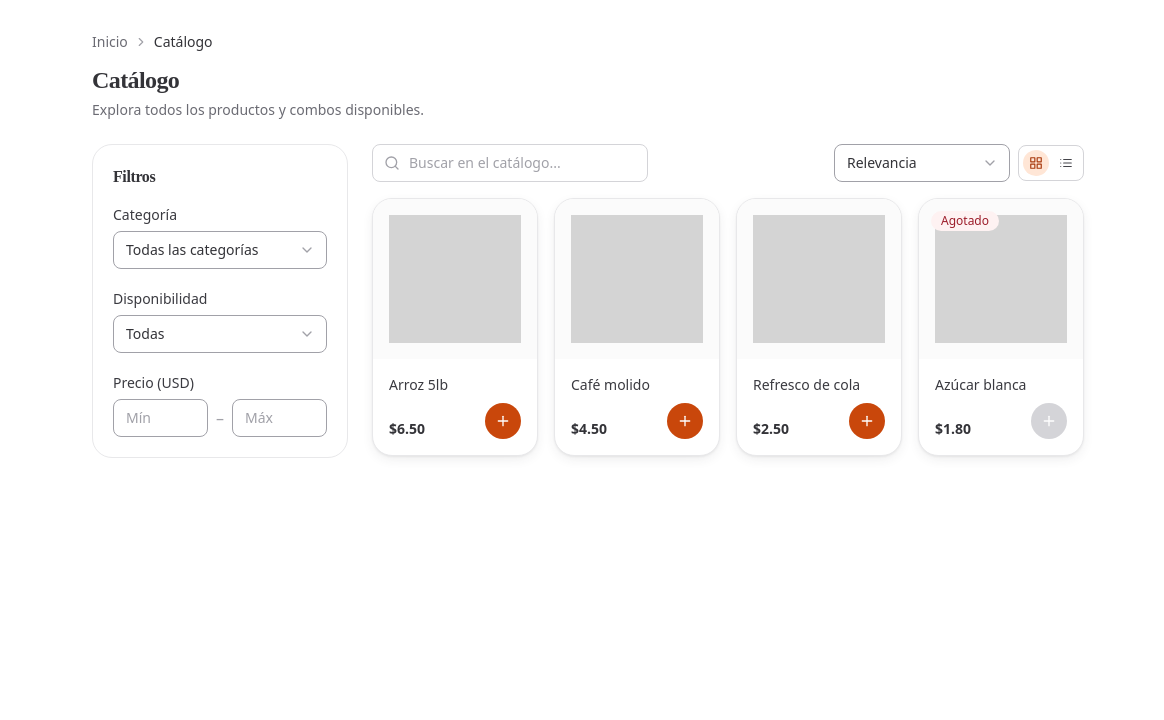
Scenario: CatalogPage › filtra por categoría y sincroniza el parámetro en la URL
This screenshot has width=1164, height=720.
Expected: the link "Arroz 5lb $6.50" is shown, [372, 198, 538, 456]
Select "Bebidas" in the dropdown labelled "Categoría" at (220, 250), box [113, 231, 327, 269]
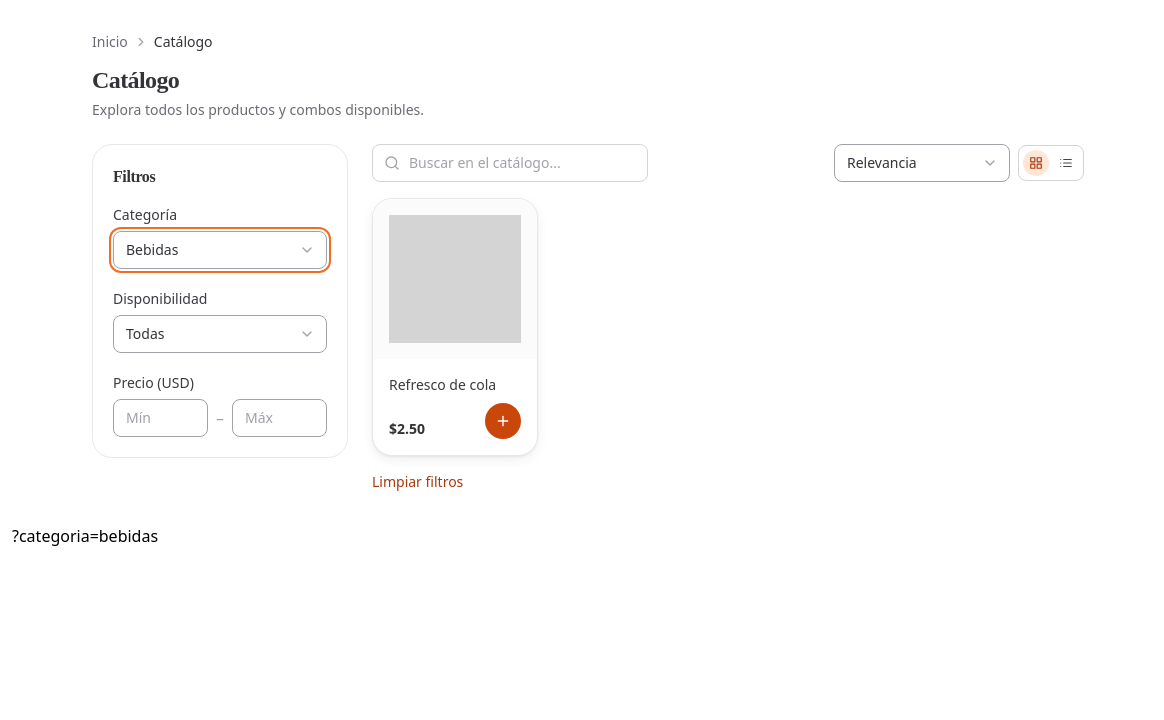
Expected: the link "Refresco de cola $2.50" is shown, [372, 198, 538, 456]
Result: the link "Arroz 5lb" is gone
Result: the text with test id "location-search" shows "categoria=bebidas" at [12, 525, 158, 547]
